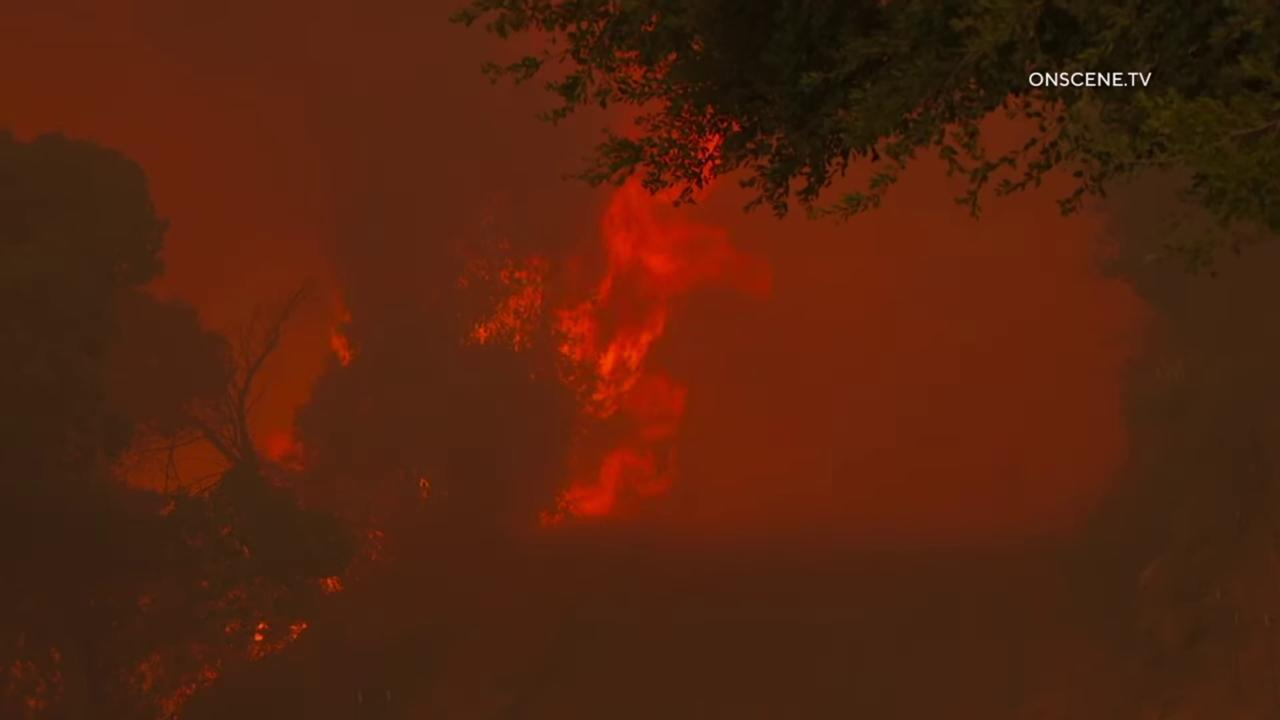fire: (457, 42, 781, 535), (123, 657, 227, 719), (319, 276, 362, 370), (245, 616, 314, 667), (308, 570, 350, 596), (417, 478, 435, 503)
smoke: (0, 0, 1280, 720)
